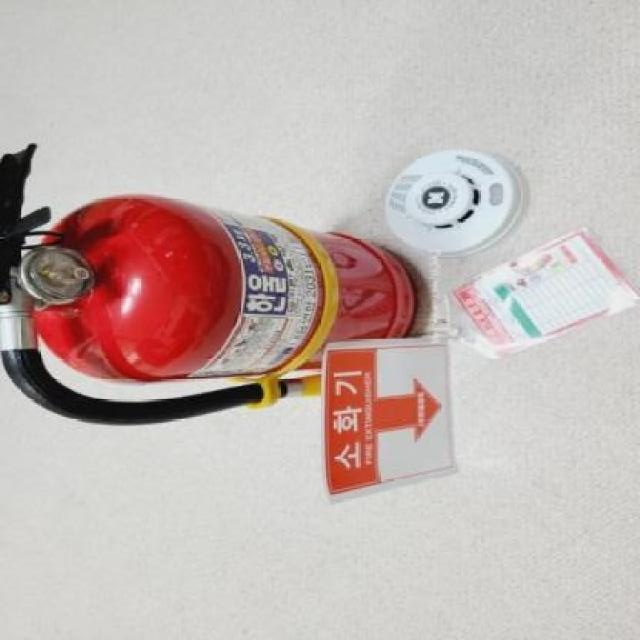fire extinguisher: (0, 143, 417, 426)
